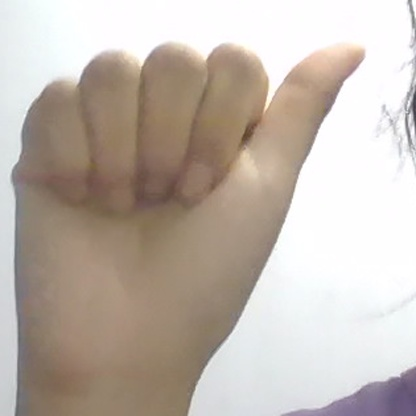A: (12, 43, 364, 374)
